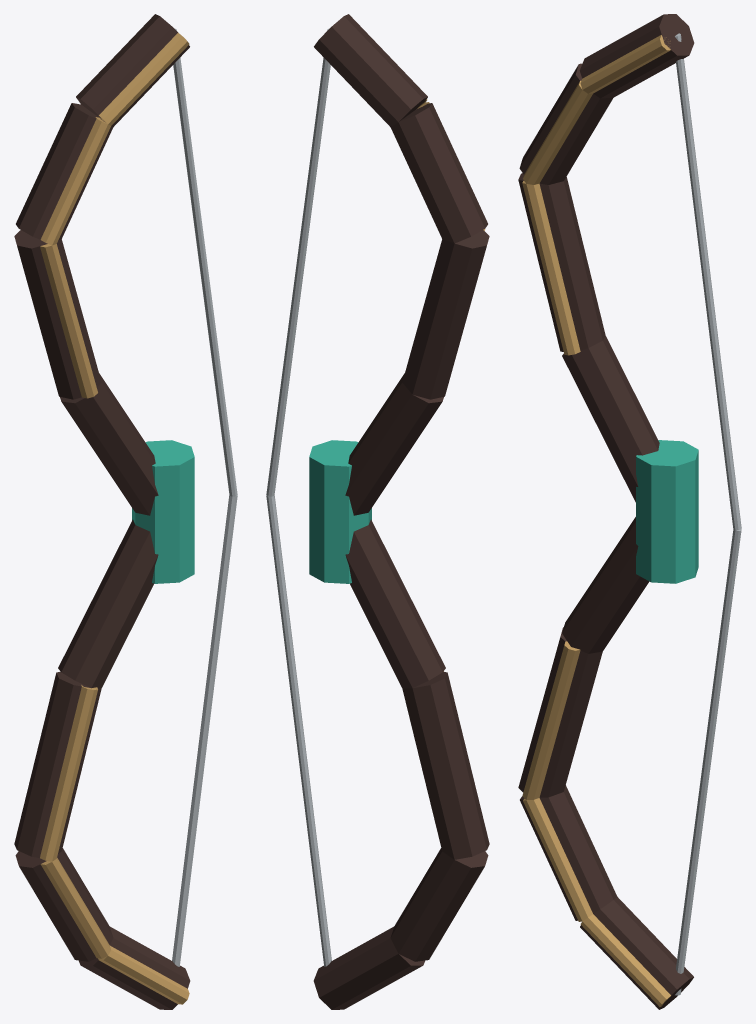
Rendered from forge-bow-v2.glb.
3 views of the same model, side by side, from view 1: azimuth 30°, elevation 25°; view 2: azimuth 150°, elevation 25°; view 3: azimuth 330°, elevation 25° (orthographic).
Visible parts, largest first — view 1: forge-bow-v2; view 2: forge-bow-v2; view 3: forge-bow-v2.
Boxes of the visible parts, box(x1,y1,x2,y2) form: forge-bow-v2: box(14, 14, 237, 1009); forge-bow-v2: box(266, 14, 489, 1009); forge-bow-v2: box(518, 14, 741, 1009).
Bounding box in the file's own units: 0.4713 × 2.03 × 0.12.
